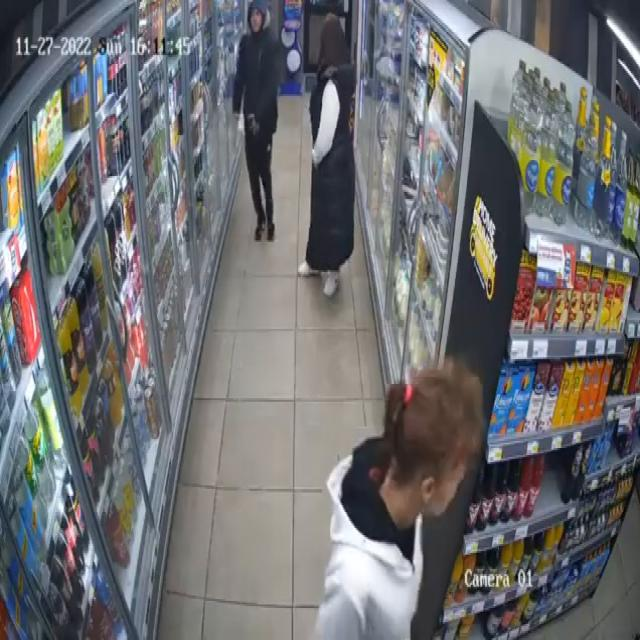person: (312, 359, 483, 638), (298, 14, 355, 295), (232, 0, 281, 240)
